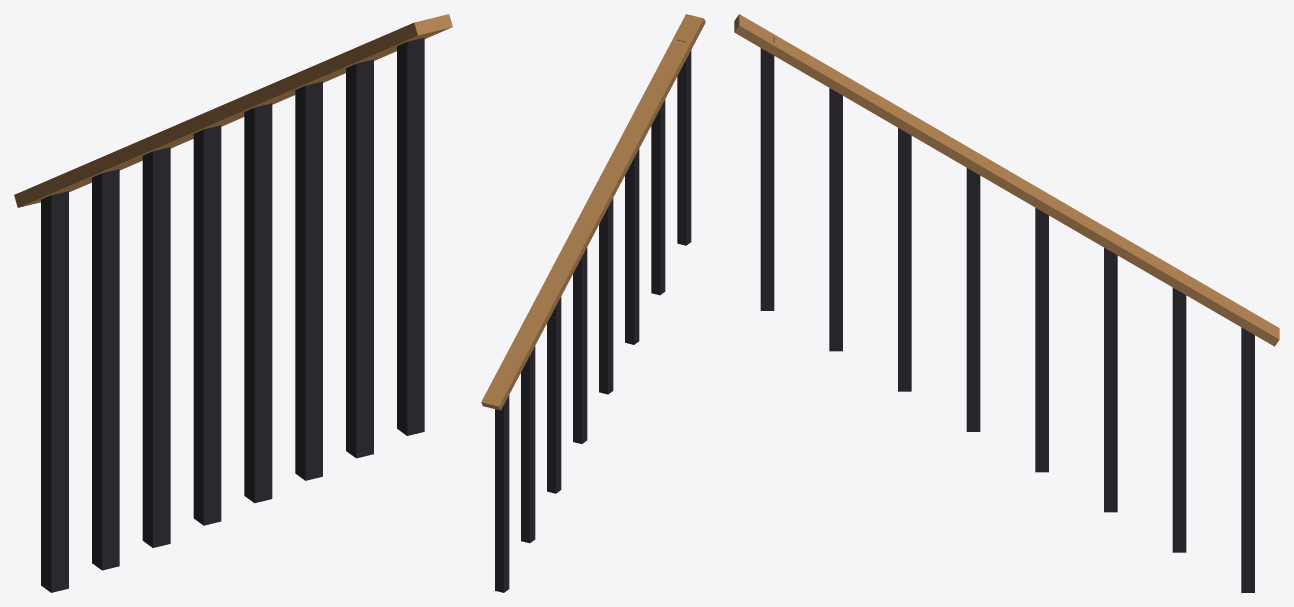
The model's file is gelender.fbx.
The picture shows the model from 3 angles, left to right: view 1: azimuth 30°, elevation 25°; view 2: azimuth 150°, elevation 25°; view 3: azimuth 270°, elevation 25°; orthographic projection. The views are drawn at different scales.
Visible parts, largest first — view 1: Cube.001, Cube.002; view 2: Cube.001, Cube.002; view 3: Cube.001, Cube.002.
Part boxes in pixels (bbox=[...]): Cube.001: bbox=[41, 37, 424, 592]; Cube.002: bbox=[14, 14, 452, 207]; Cube.001: bbox=[495, 40, 691, 592]; Cube.002: bbox=[481, 14, 705, 410]; Cube.001: bbox=[760, 37, 1254, 592]; Cube.002: bbox=[734, 14, 1279, 346].
Size of the model in its own units: 12.48 by 287 by 249.
